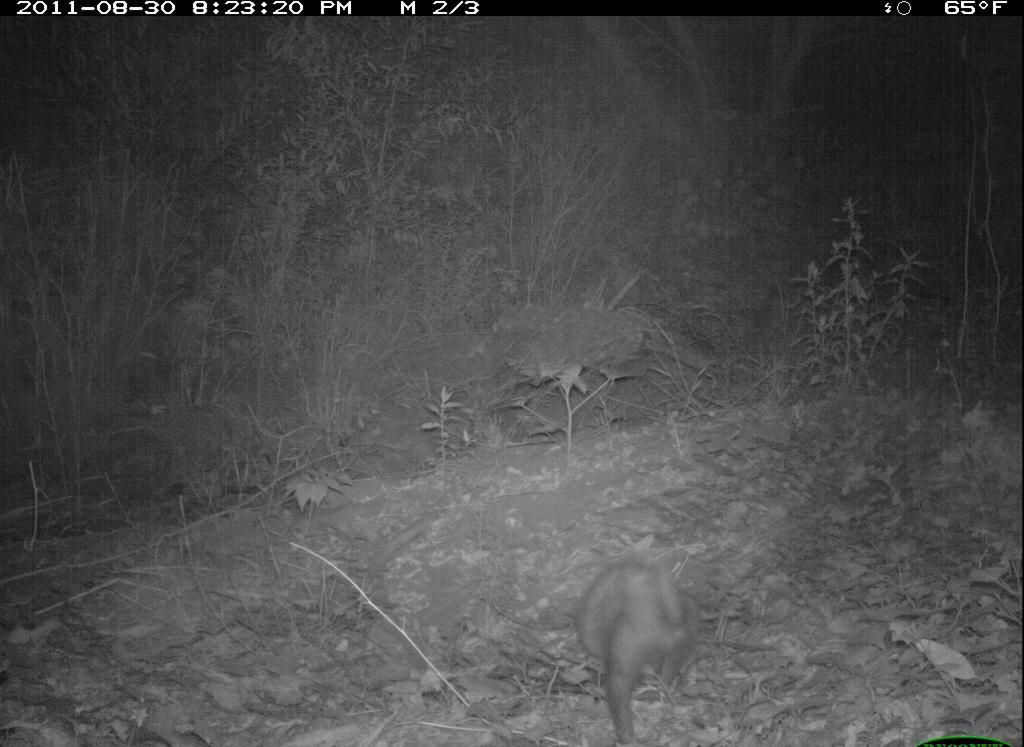opossum: (555, 533, 719, 747)
